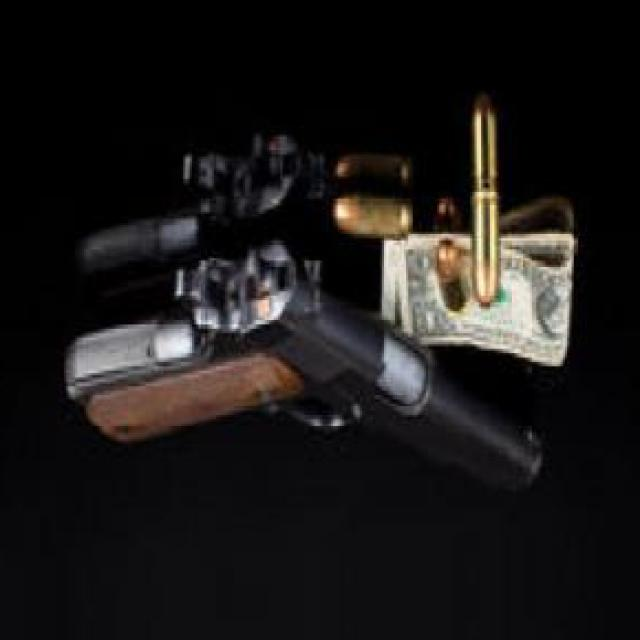pistol: (59, 246, 548, 494)
